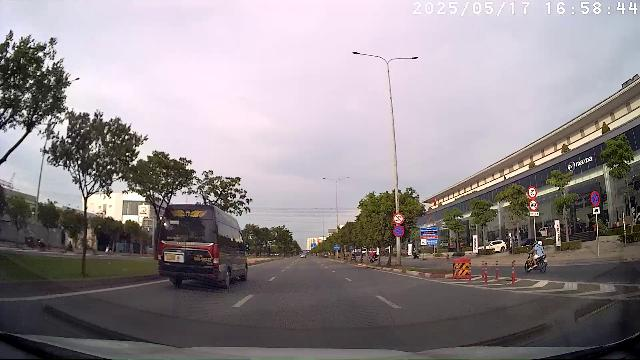127-toc-do-toi-da-60: (527, 186, 537, 198)
130-cam-dung-va-do-xe: (590, 191, 600, 207), (394, 226, 404, 236)
